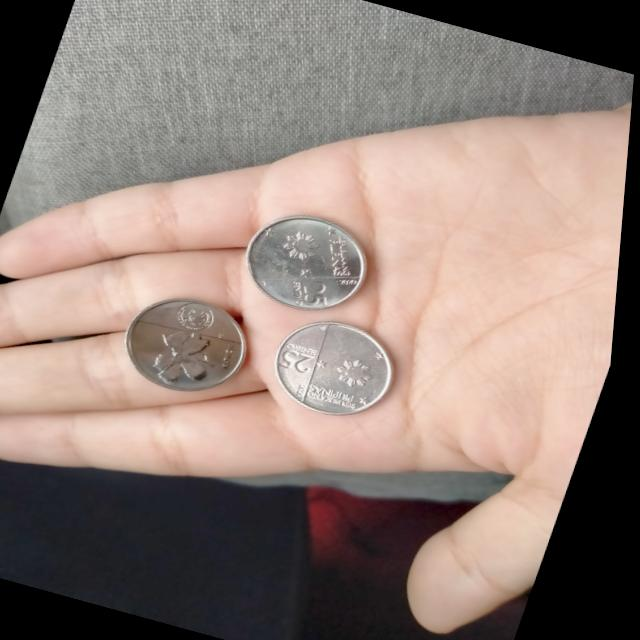25Cent_New_Back: (144, 326, 226, 394)
25Cent_New_Front: (277, 272, 339, 311), (274, 338, 326, 383)
